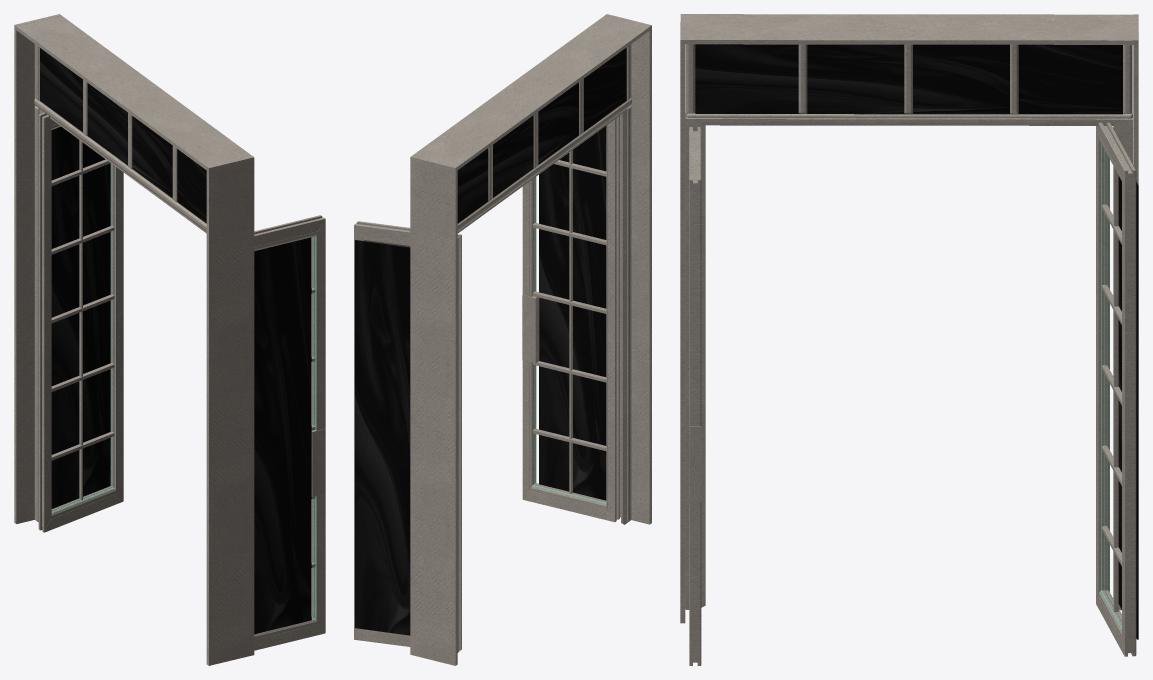
File: puerta.obj
3 renders of one model, left to right at view 1: azimuth 30°, elevation 25°; view 2: azimuth 150°, elevation 25°; view 3: azimuth 270°, elevation 25°, orthographic. The views are drawn at different scales.
Visible parts, largest first — view 1: puerta001; view 2: puerta001; view 3: puerta001.
Part boxes in pixels (left/top/right/bottom): puerta001: left=14, top=14, right=325, bottom=665; puerta001: left=354, top=14, right=651, bottom=665; puerta001: left=680, top=14, right=1138, bottom=665.
Bounding box in the file's own units: 13.39 × 52.76 × 37.6.
3 materials, 2 textured.
